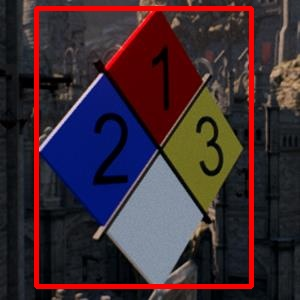nfpa: (36, 8, 251, 286)
